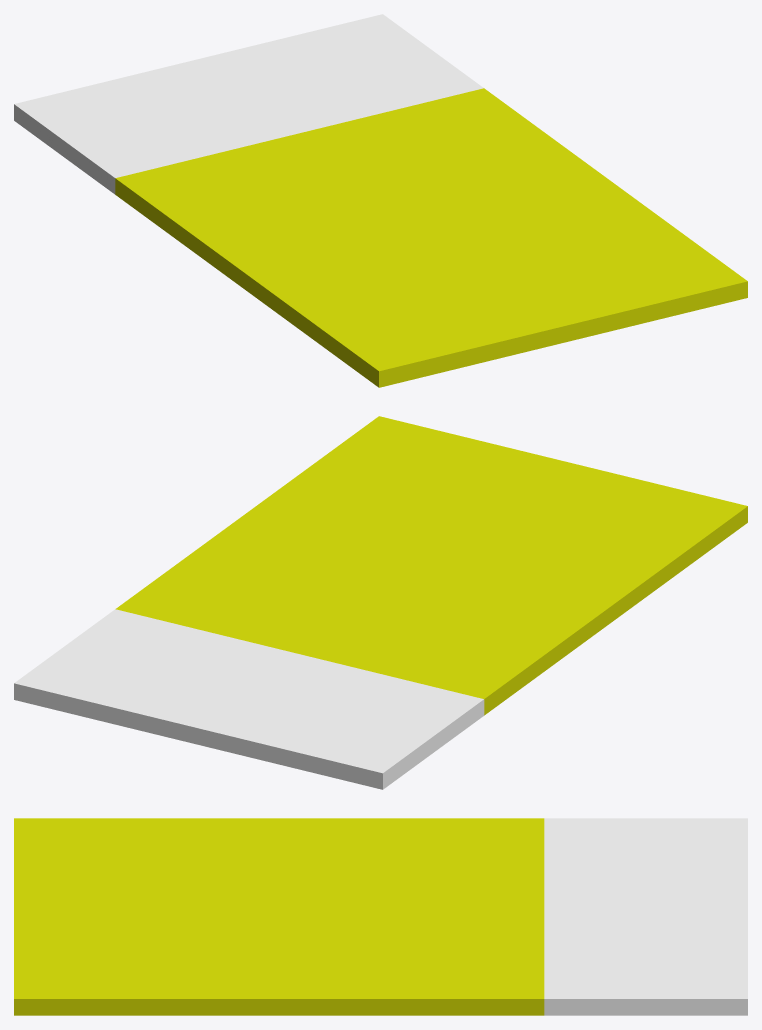
File: Keycard.fbx
The picture shows the model from 3 angles, top to bottom: view 1: azimuth 30°, elevation 25°; view 2: azimuth 150°, elevation 25°; view 3: azimuth 270°, elevation 25°; orthographic projection.
Visible parts, largest first — view 1: Cube; view 2: Cube; view 3: Cube.
Boxes of the visible parts, x1,y1,x2,y2 form: Cube: (14, 14, 747, 387); Cube: (14, 416, 747, 789); Cube: (14, 818, 747, 1015).
Size of the model in its own units: 11.53 by 0.4941 by 19.77.
